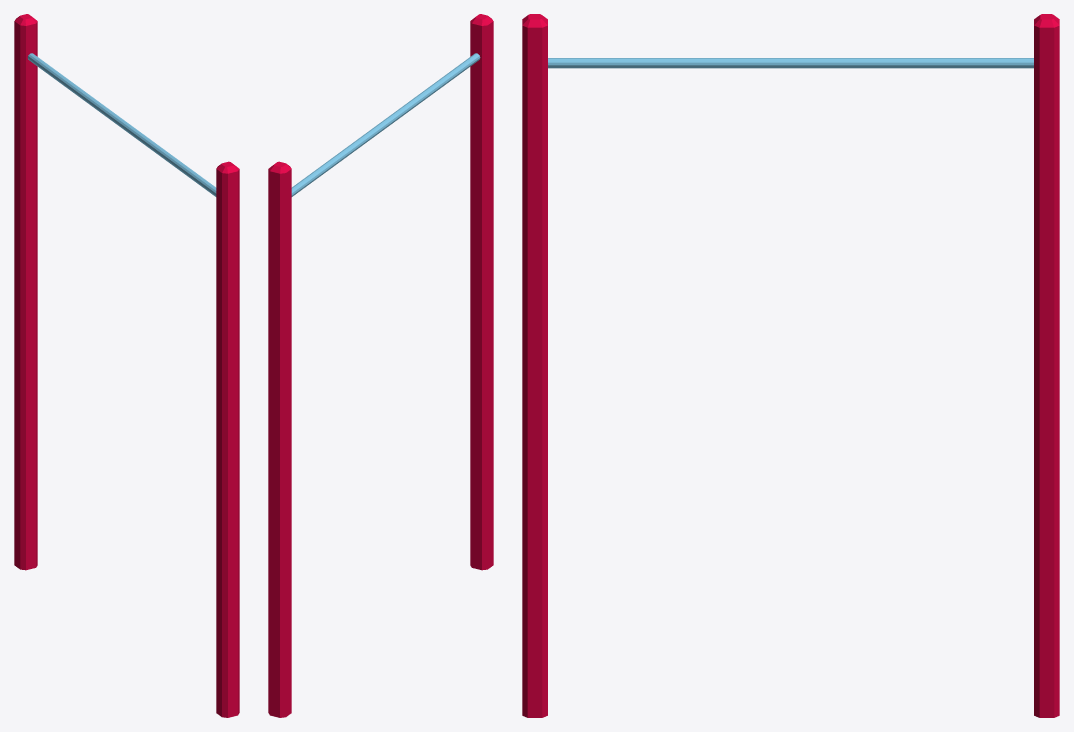
File: Pull Up Bar 2.fbx
3 renders of one model, left to right at view 1: azimuth 30°, elevation 25°; view 2: azimuth 150°, elevation 25°; view 3: azimuth 270°, elevation 25°, orthographic. The views are drawn at different scales.
Visible parts, largest first — view 1: Pull Up Bar 2; view 2: Pull Up Bar 2; view 3: Pull Up Bar 2.
Part boxes in pixels (x1,y1,x2,y2): Pull Up Bar 2: [14, 14, 239, 717]; Pull Up Bar 2: [268, 14, 493, 717]; Pull Up Bar 2: [522, 14, 1059, 717].
Size of the model in its own units: 50 by 1500 by 1050.
